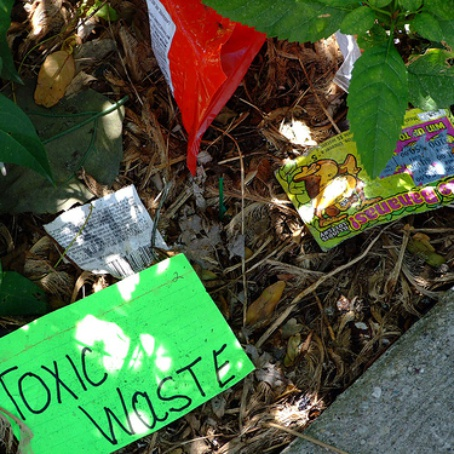trash: (1, 1, 446, 443)
vegetation: (1, 1, 406, 375)
